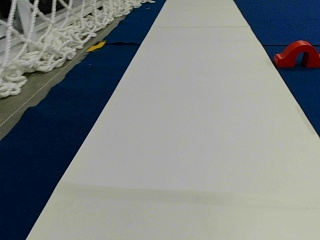bridge: (275, 40, 319, 66)
